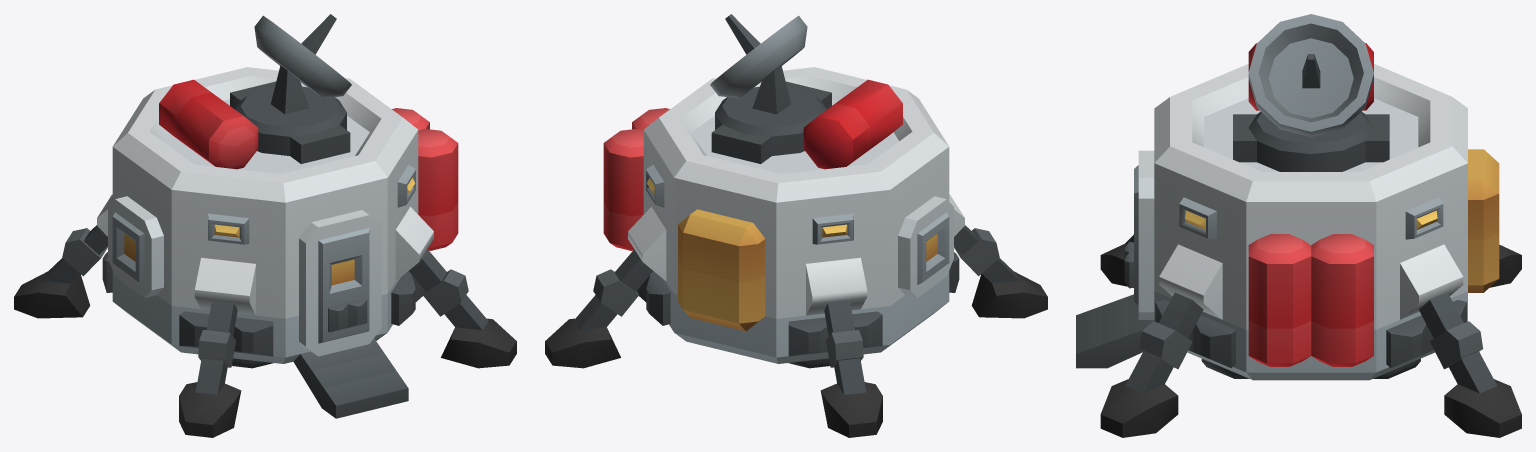
File: CoreStation.glb
The picture shows the model from 3 angles, left to right: view 1: azimuth 30°, elevation 25°; view 2: azimuth 150°, elevation 25°; view 3: azimuth 270°, elevation 25°; orthographic projection. The views are drawn at different scales.
Parts seen in each view (by area): view 1: lander_A_Cylinder.2701; view 2: lander_A_Cylinder.2701; view 3: lander_A_Cylinder.2701.
Boxes of the visible parts, x1,y1,x2,y2 form: lander_A_Cylinder.2701: [14, 14, 516, 437]; lander_A_Cylinder.2701: [545, 14, 1047, 437]; lander_A_Cylinder.2701: [1076, 14, 1521, 437].
Bounding box in the file's own units: 1.37 × 1.19 × 1.42.
Materials: 1 (1 with a texture image).
